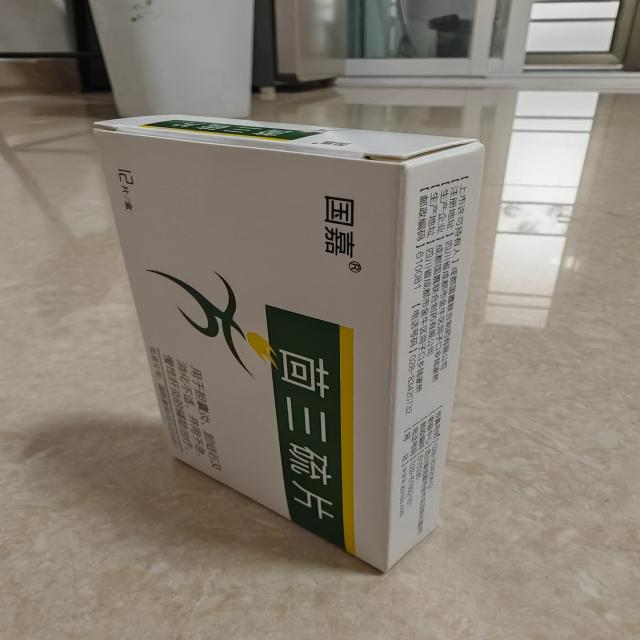box: (84, 104, 490, 580)
